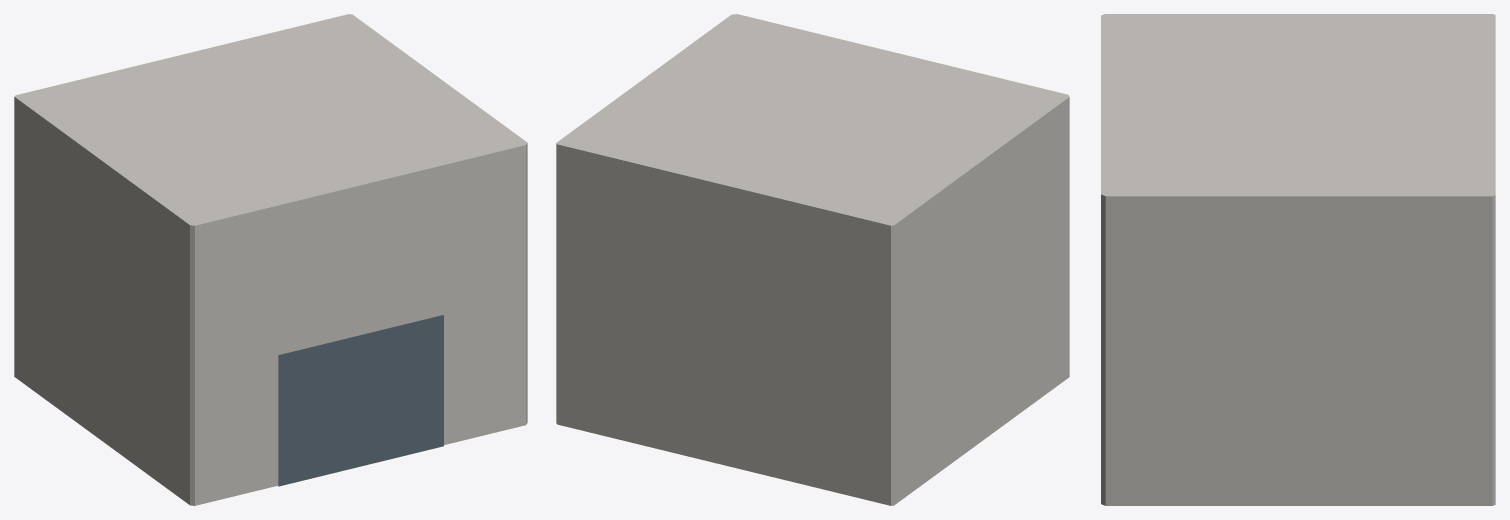
File: loin-etape-1.glb
3 renders of one model, left to right at view 1: azimuth 30°, elevation 25°; view 2: azimuth 150°, elevation 25°; view 3: azimuth 270°, elevation 25°, orthographic. The views are drawn at different scales.
Parts seen in each view (by area): view 1: loin; view 2: loin; view 3: loin.
Boxes of the visible parts, box(x1,y1,x2,y2) form: loin: box(14, 14, 527, 505); loin: box(556, 14, 1069, 505); loin: box(1101, 14, 1495, 505).
Size of the model in its own units: 0.6782 by 0.5375 by 0.6246.
